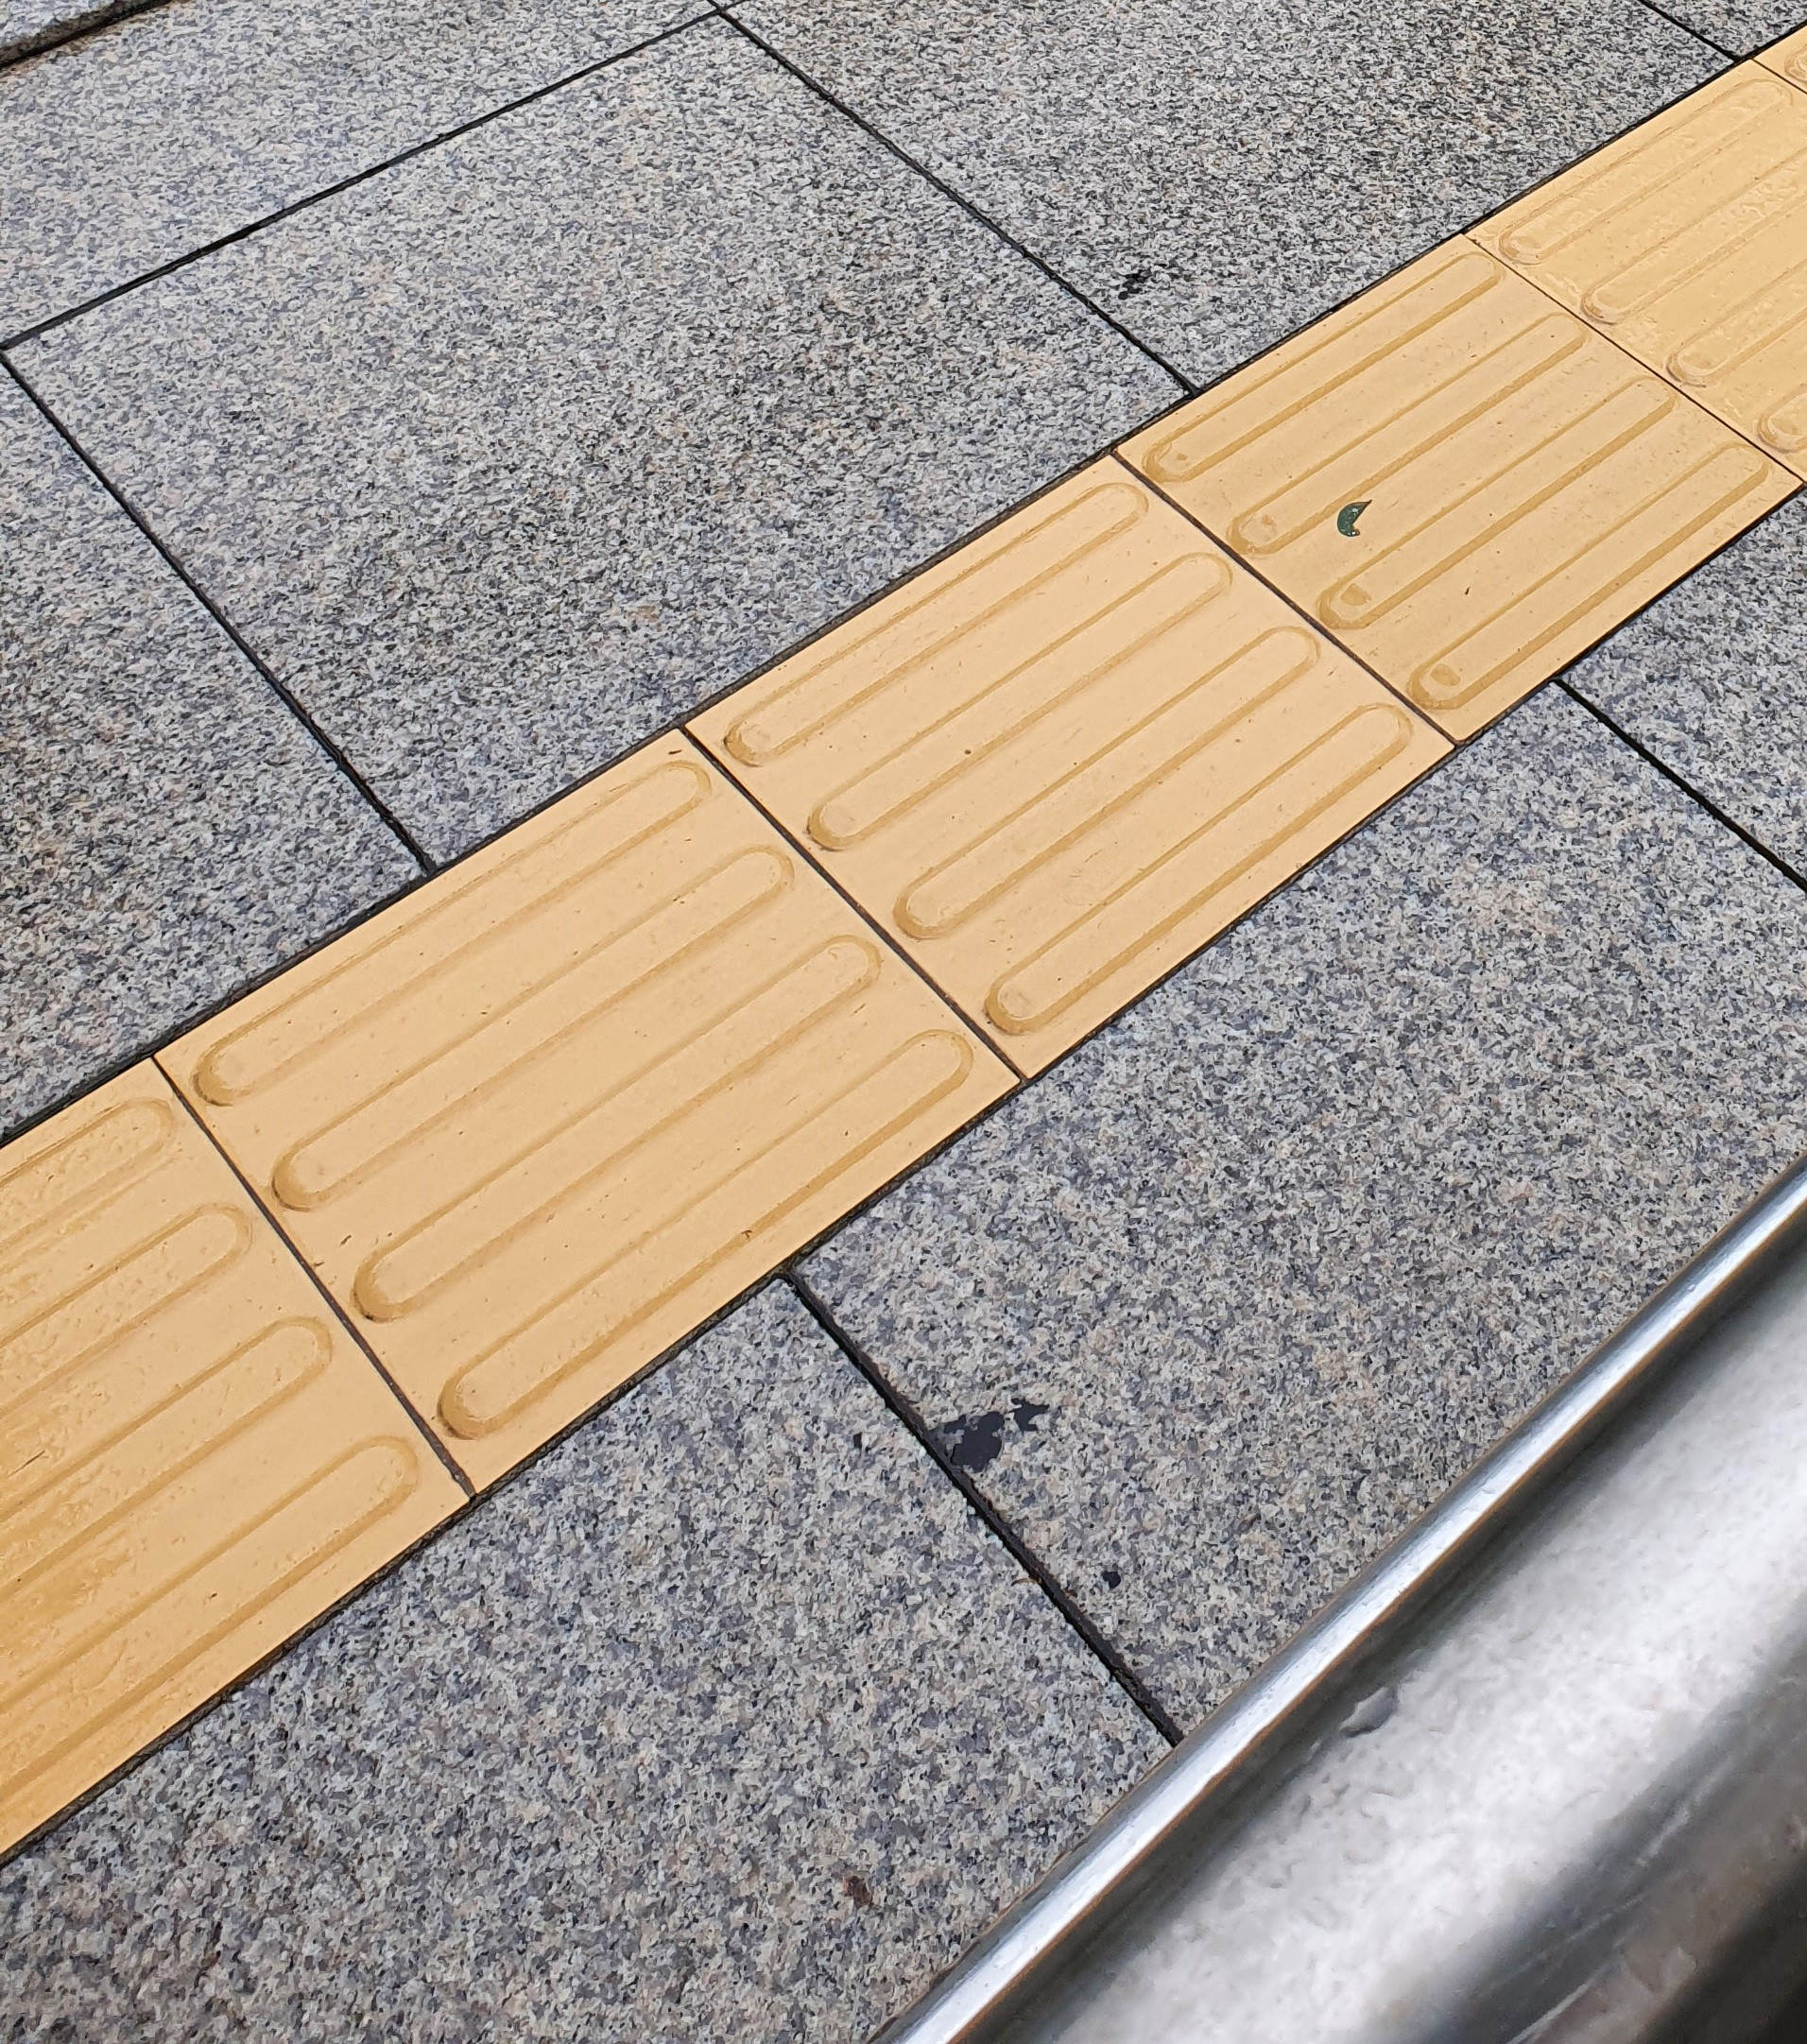guideBlock: (249, 928, 827, 1325), (1174, 317, 1641, 677), (760, 633, 1266, 937)
